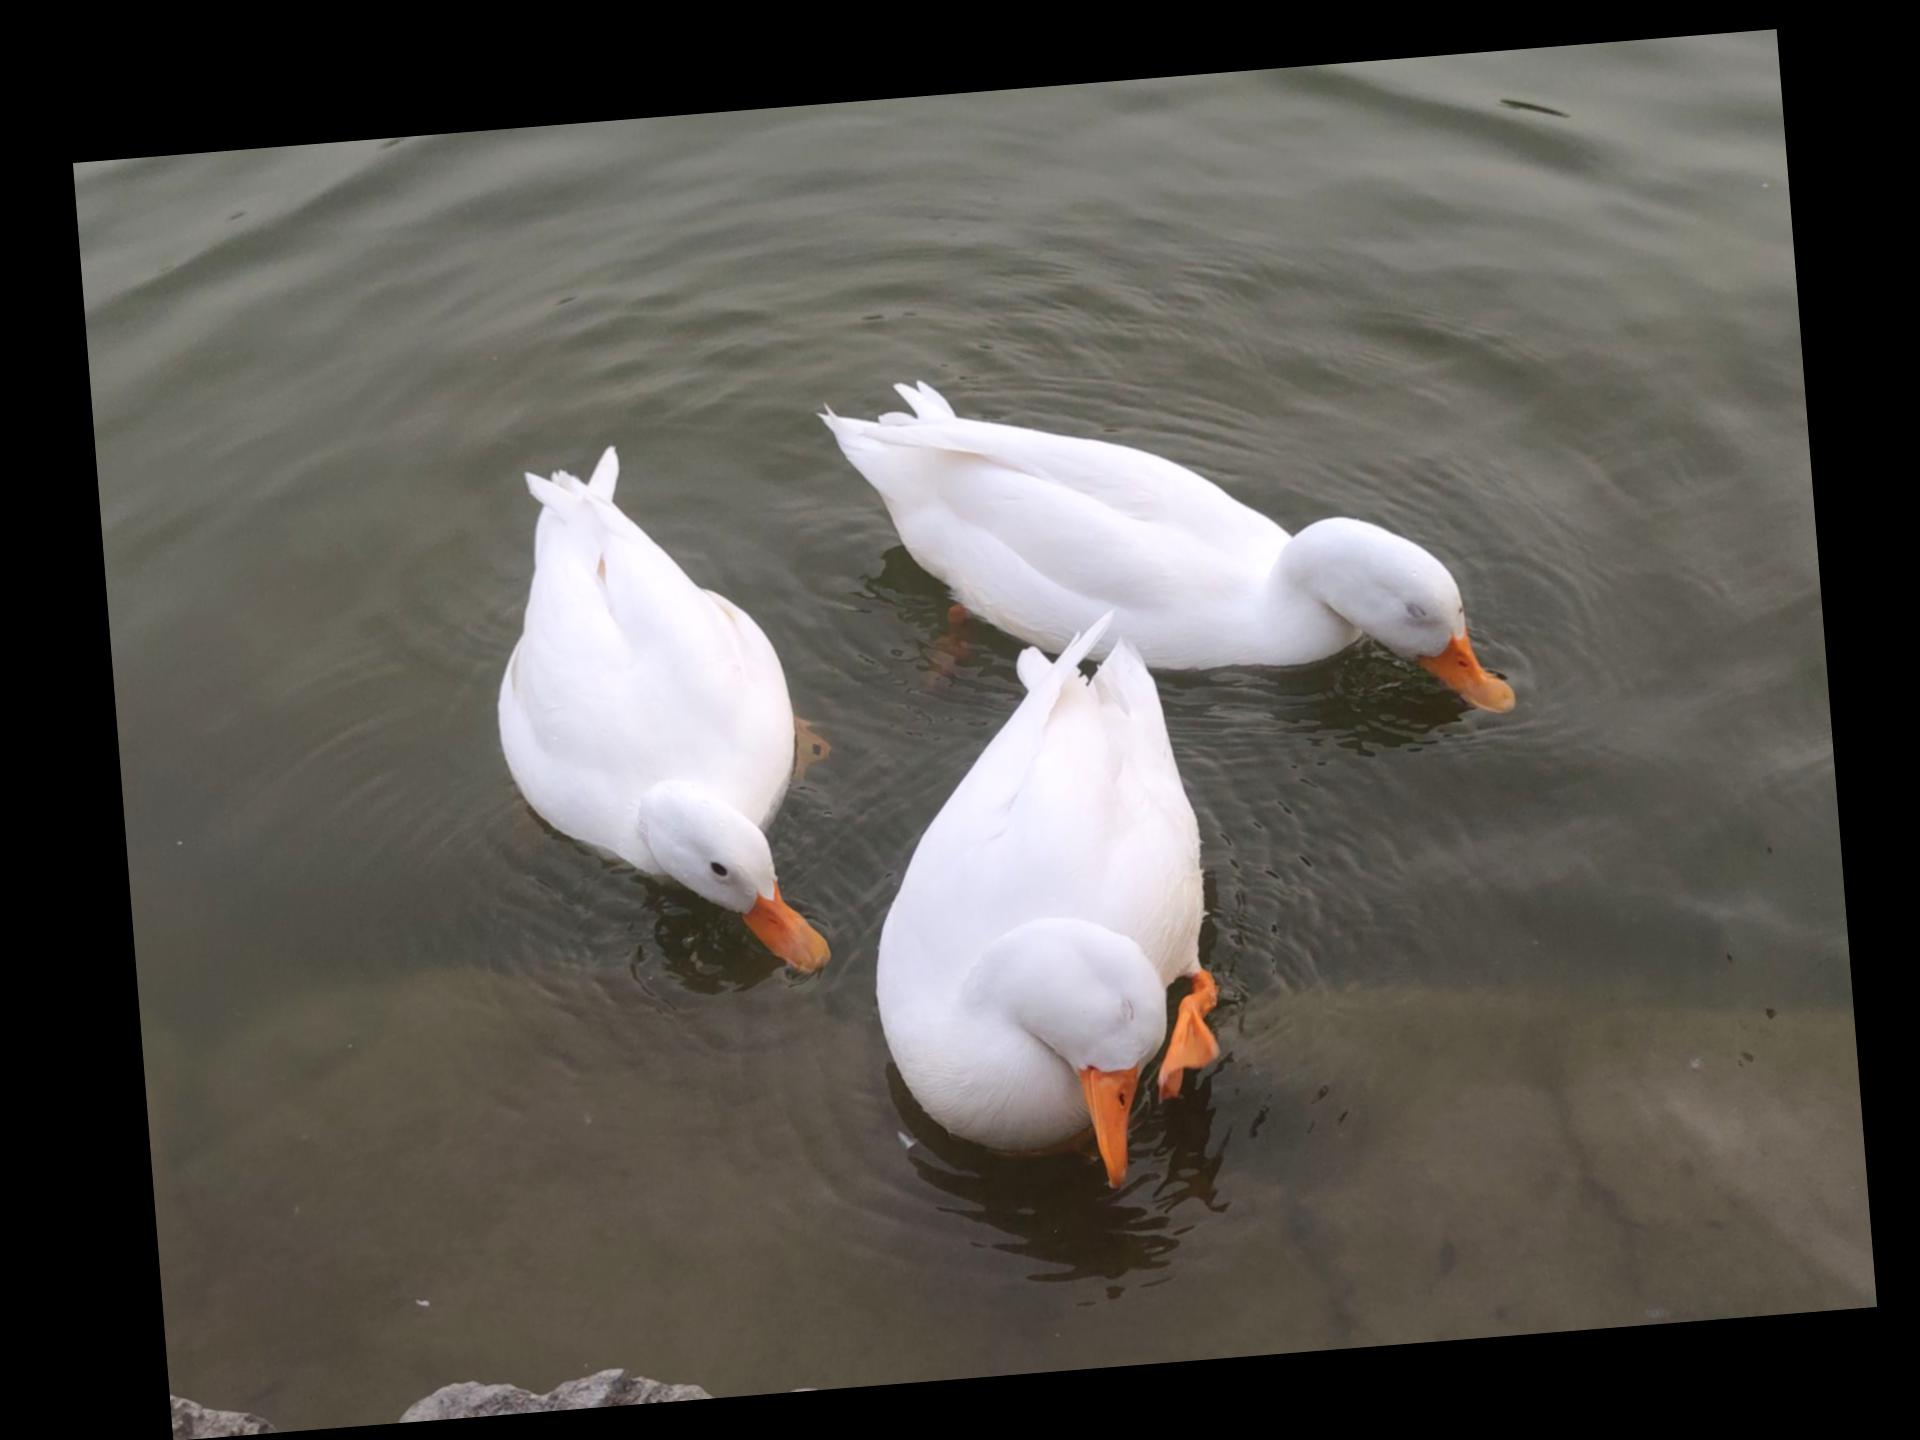duck: (791, 304, 1524, 784), (819, 579, 1259, 1203), (466, 419, 841, 1007)
